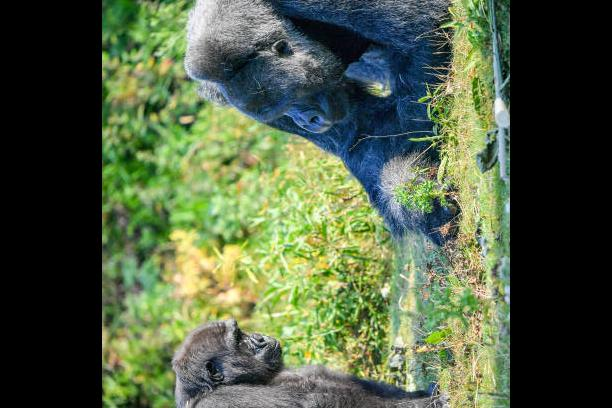gorille_Autres: (177, 0, 463, 228), (172, 339, 493, 408)
